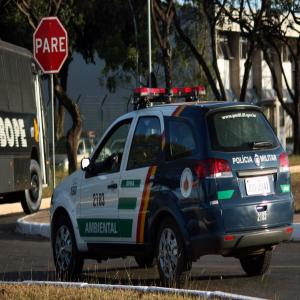Vehicle-registration-plate: (245, 175, 271, 196)
